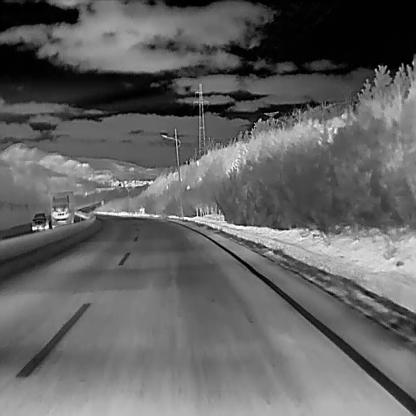car: (31, 212, 48, 229)
truck: (49, 190, 73, 228)
